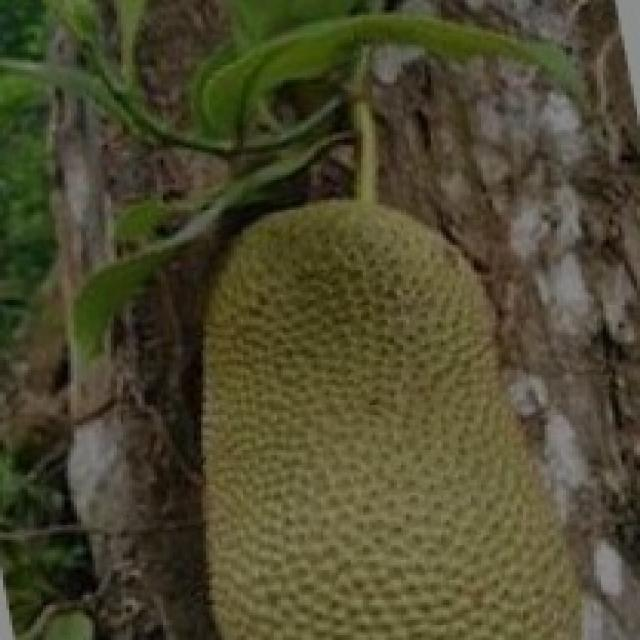Fruit: (182, 230, 624, 638)
